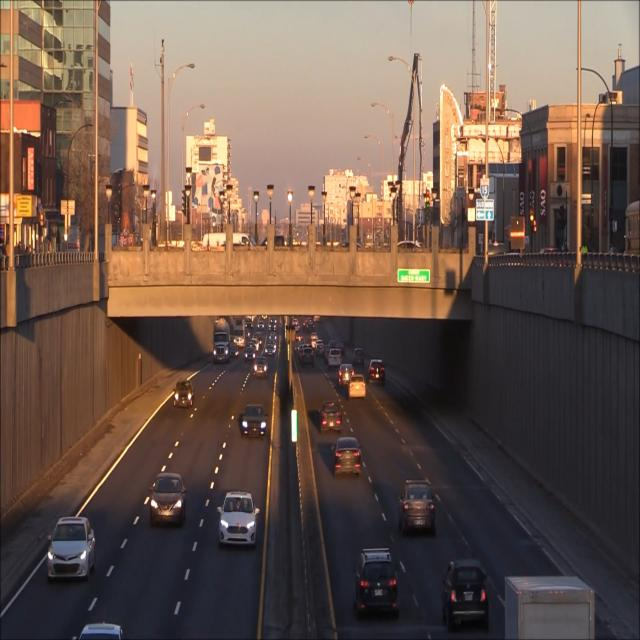Car: (441, 561, 492, 633), (353, 547, 402, 621), (44, 514, 96, 582), (398, 476, 438, 538), (220, 490, 259, 547), (149, 473, 188, 526), (332, 437, 366, 477), (241, 404, 269, 441), (319, 398, 344, 436), (213, 320, 230, 362), (174, 379, 194, 408), (350, 375, 366, 401), (369, 359, 386, 383), (338, 364, 354, 386), (253, 357, 269, 378)
